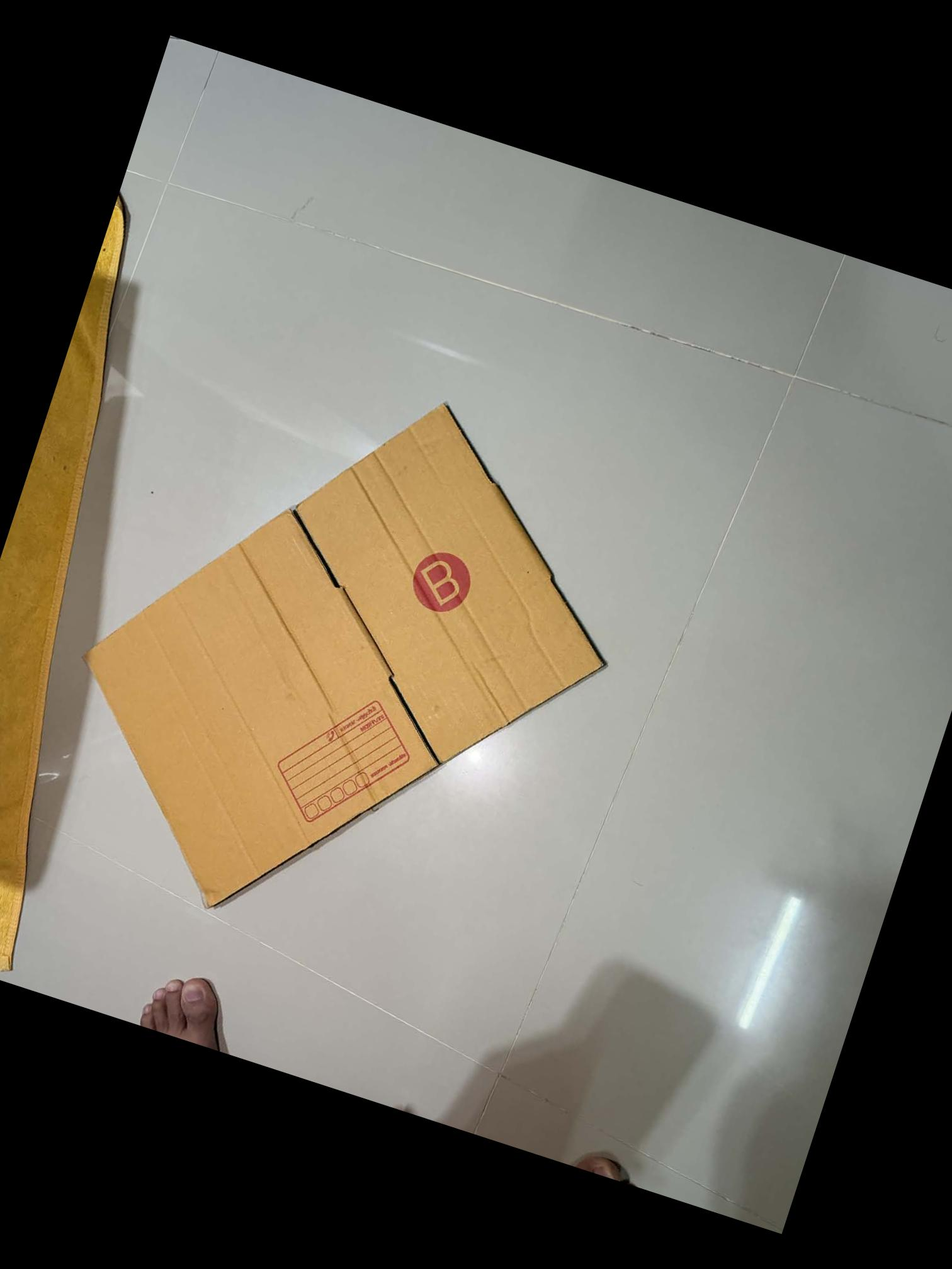box: (260, 669, 430, 852), (397, 541, 483, 620)
class0: (22, 320, 670, 1003)
